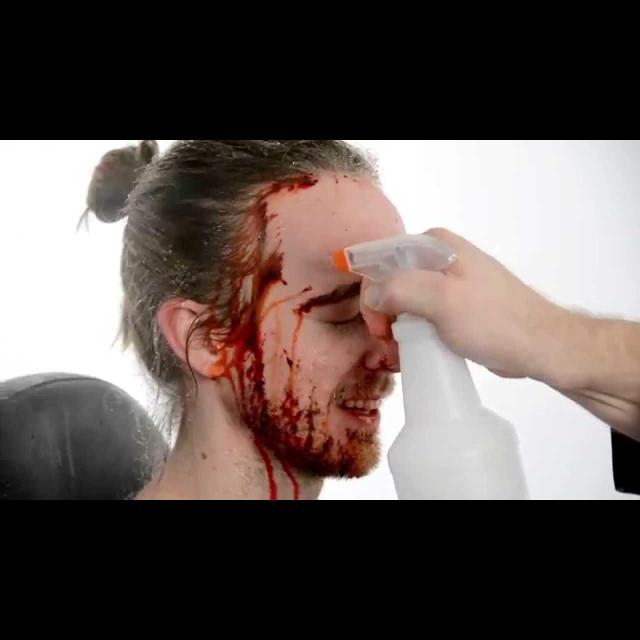blood: (190, 170, 380, 500)
